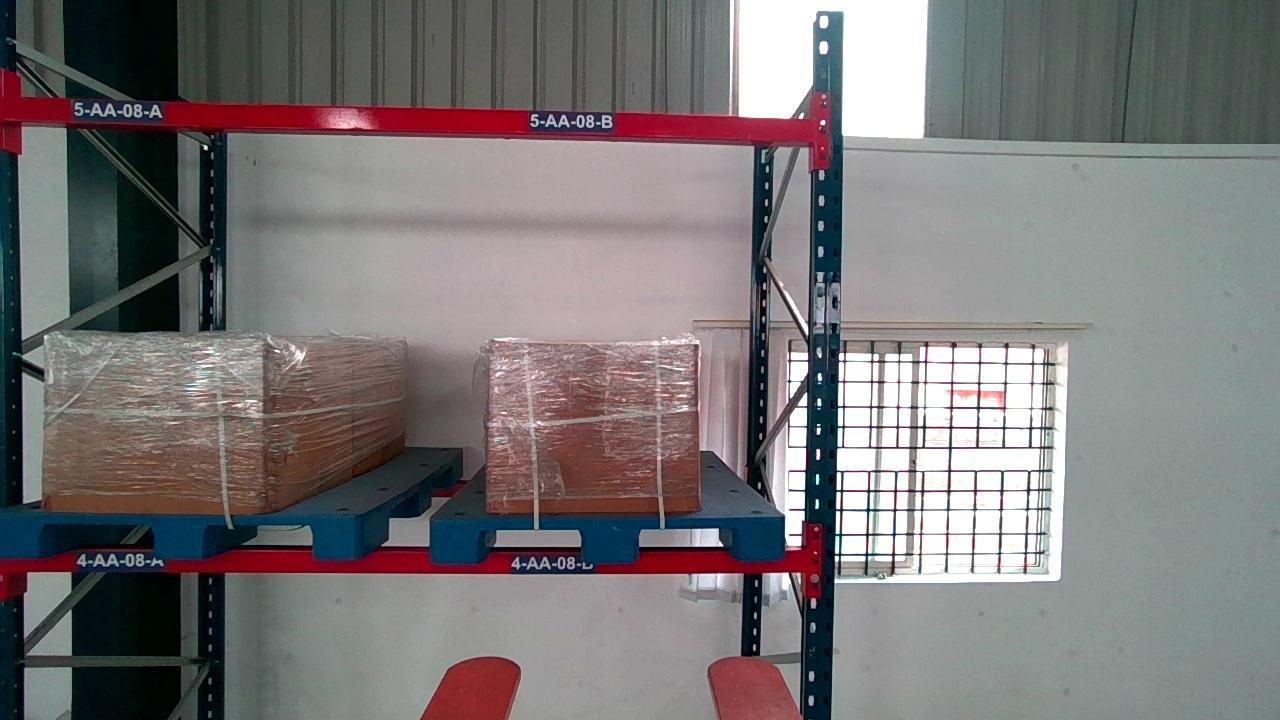h_rack: (1, 92, 825, 143), (0, 548, 812, 570)
small_pallet: (0, 512, 351, 562), (432, 515, 784, 560)
